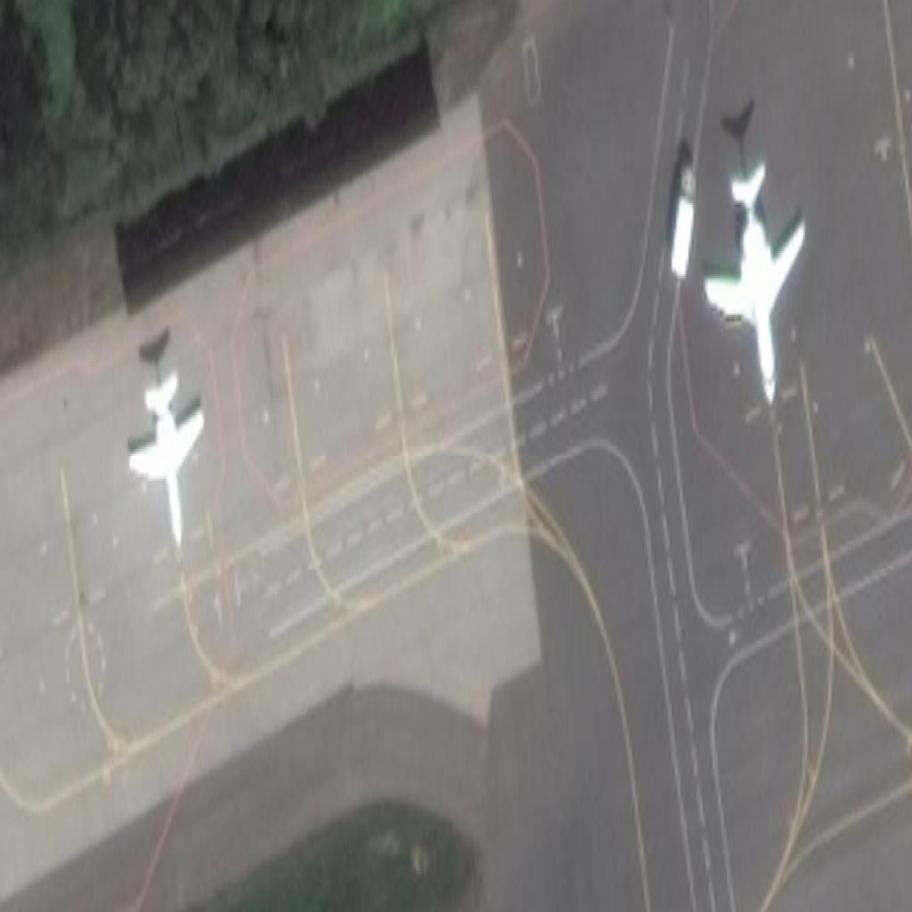plane: (697, 132, 818, 424), (126, 362, 212, 570)
small-vehicle: (667, 159, 701, 287)
